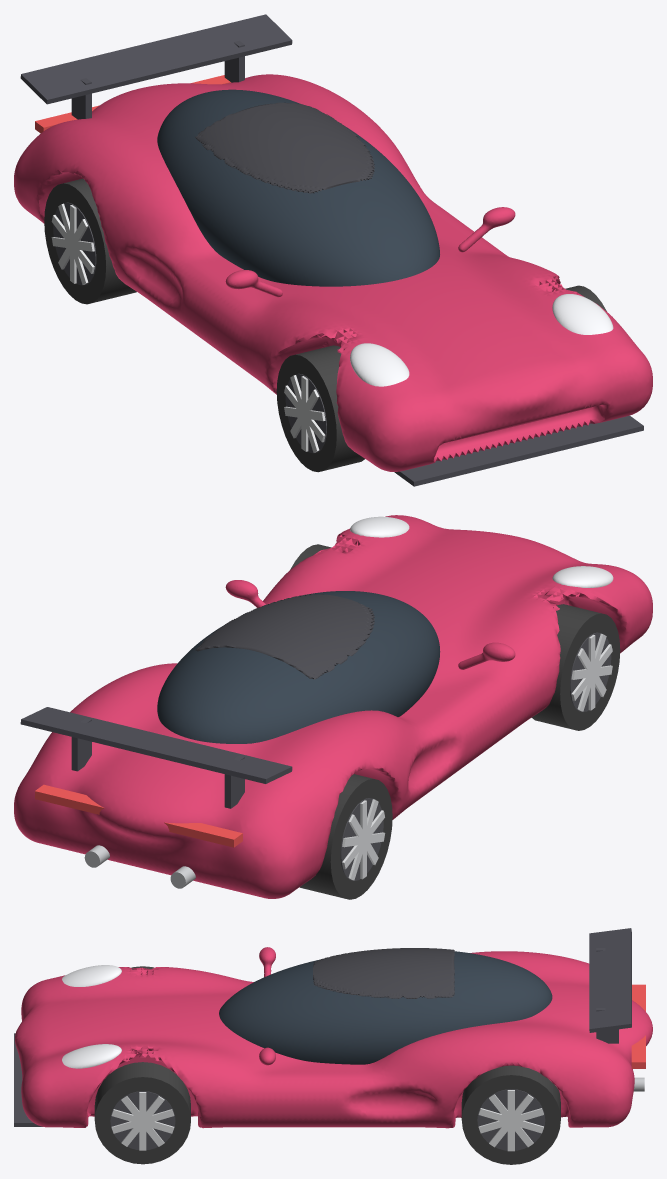
File: sports-car.glb
3 renders of one model, top to bottom at view 1: azimuth 30°, elevation 25°; view 2: azimuth 150°, elevation 25°; view 3: azimuth 270°, elevation 25°, orthographic. The views are drawn at different scales.
Parts seen in each view (by area): view 1: body, canopy, roof, wing, splitter, tyre_fl, tyre_rl, headlights, mirrors, rim_rl, rim_fl; view 2: body, canopy, roof, wing, tyre_fl, tyre_rl, taillight, headlights, mirrors, rim_rl, rim_fl, wing_strut_l (+1 smaller); view 3: body, canopy, roof, tyre_fr, tyre_rr, wing, headlights, rim_rr, rim_fr, splitter, taillight, mirrors (+10 smaller).
Boxes of the visible parts, x1,y1,x2,y2 form: body: [14, 74, 652, 471]; canopy: [157, 89, 439, 286]; roof: [195, 102, 374, 193]; wing: [20, 14, 292, 104]; splitter: [394, 415, 643, 486]; tyre_fl: [276, 345, 364, 472]; tyre_rl: [44, 178, 136, 304]; headlights: [350, 294, 613, 386]; mirrors: [225, 207, 515, 297]; rim_rl: [53, 202, 96, 285]; rim_fl: [285, 373, 326, 453]; body: [14, 515, 652, 898]; canopy: [157, 591, 440, 743]; roof: [195, 594, 374, 679]; wing: [20, 707, 292, 783]; tyre_fl: [531, 604, 620, 730]; tyre_rl: [299, 774, 392, 899]; taillight: [35, 784, 242, 847]; headlights: [350, 516, 613, 587]; mirrors: [225, 580, 515, 669]; rim_rl: [340, 798, 383, 880]; rim_fl: [570, 632, 611, 711]; wing_strut_l: [224, 755, 244, 808]; body: [15, 951, 652, 1128]; canopy: [219, 951, 552, 1064]; roof: [313, 948, 454, 998]; tyre_fr: [94, 1062, 190, 1164]; tyre_rr: [461, 1065, 560, 1164]; wing: [589, 928, 631, 1032]; headlights: [62, 965, 121, 1068]; rim_rr: [477, 1089, 545, 1150]; rim_fr: [110, 1091, 175, 1150]; splitter: [14, 1033, 42, 1126]; taillight: [631, 984, 645, 1068]; mirrors: [259, 947, 275, 1065].
Size of the model in its own units: 1.92 by 1.16 by 4.51.
